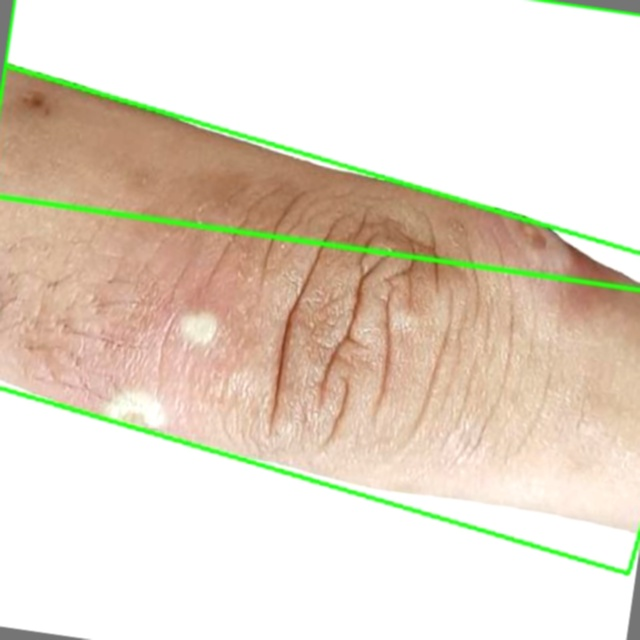Scabies: (0, 63, 639, 573), (0, 0, 639, 290)
